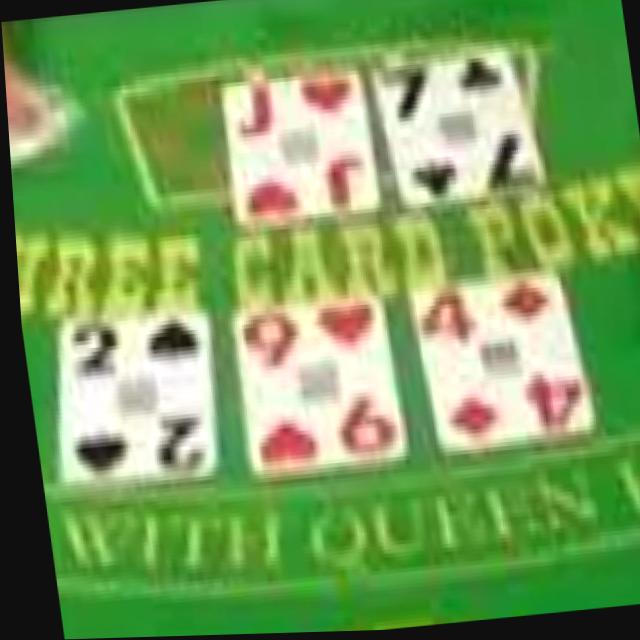Card-2: (58, 312, 209, 480)
Card-4: (408, 272, 588, 453)
Card-7: (371, 52, 542, 210)
Card-9: (231, 297, 399, 479)
Card-J: (221, 69, 376, 225)
